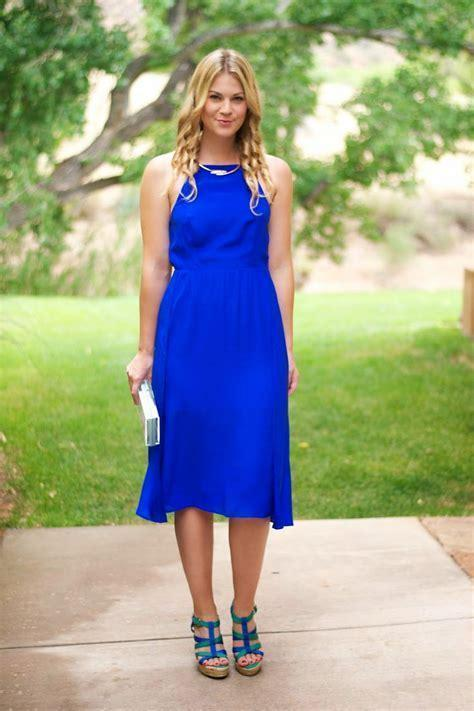dress: (136, 145, 293, 528)
